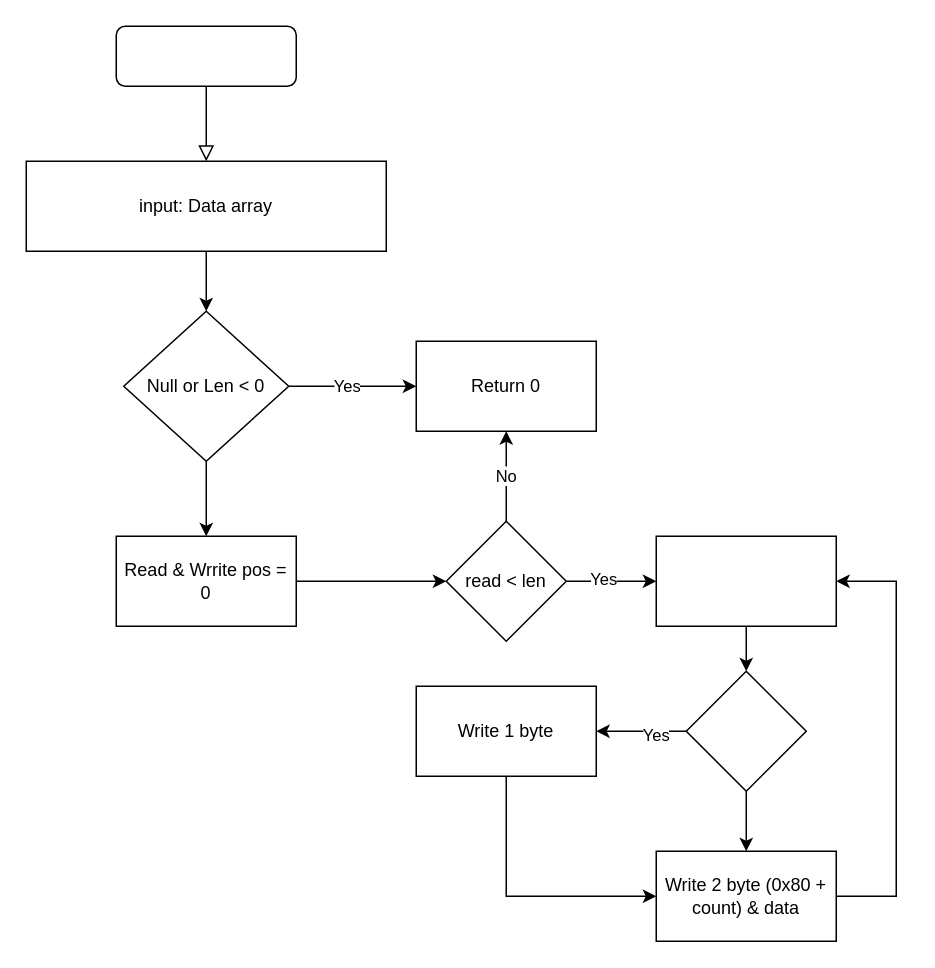
The diagram is 935 pixels wide and 968 high, and some of its shapes have lost their labels. Here are the shapes that lost their labels. From the top down, the centre of each, then its label:
[205,55]: Start
[745,580]: idx == at read Count same bytes < 128
[745,730]: Count == 1?
